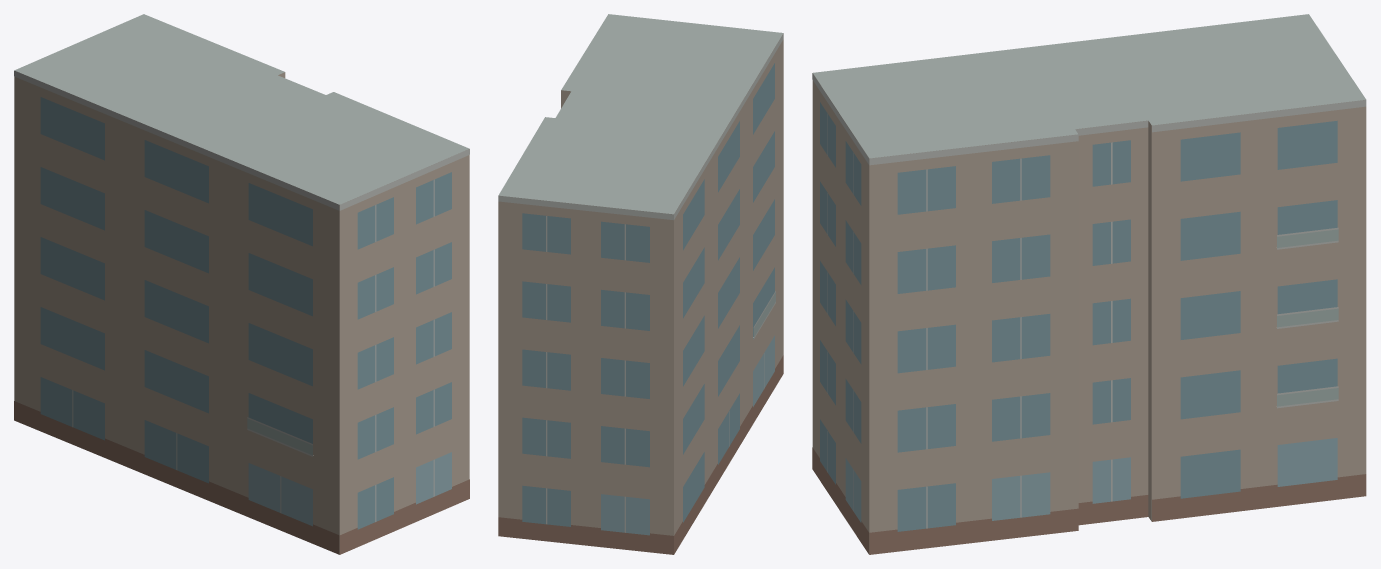
The model's file is survey-upis-33008410.glb.
The picture shows the model from 3 angles, left to right: view 1: azimuth 30°, elevation 25°; view 2: azimuth 150°, elevation 25°; view 3: azimuth 270°, elevation 25°; orthographic projection. The views are drawn at different scales.
Visible parts, largest first — view 1: survey-upis-33008410.tmp; view 2: survey-upis-33008410.tmp; view 3: survey-upis-33008410.tmp.
Part boxes in pixels (x1,y1,x2,y2): survey-upis-33008410.tmp: [14, 14, 469, 554]; survey-upis-33008410.tmp: [498, 14, 783, 554]; survey-upis-33008410.tmp: [812, 14, 1366, 554].
Bounding box in the file's own units: 11.03 × 14.1 × 17.87.
